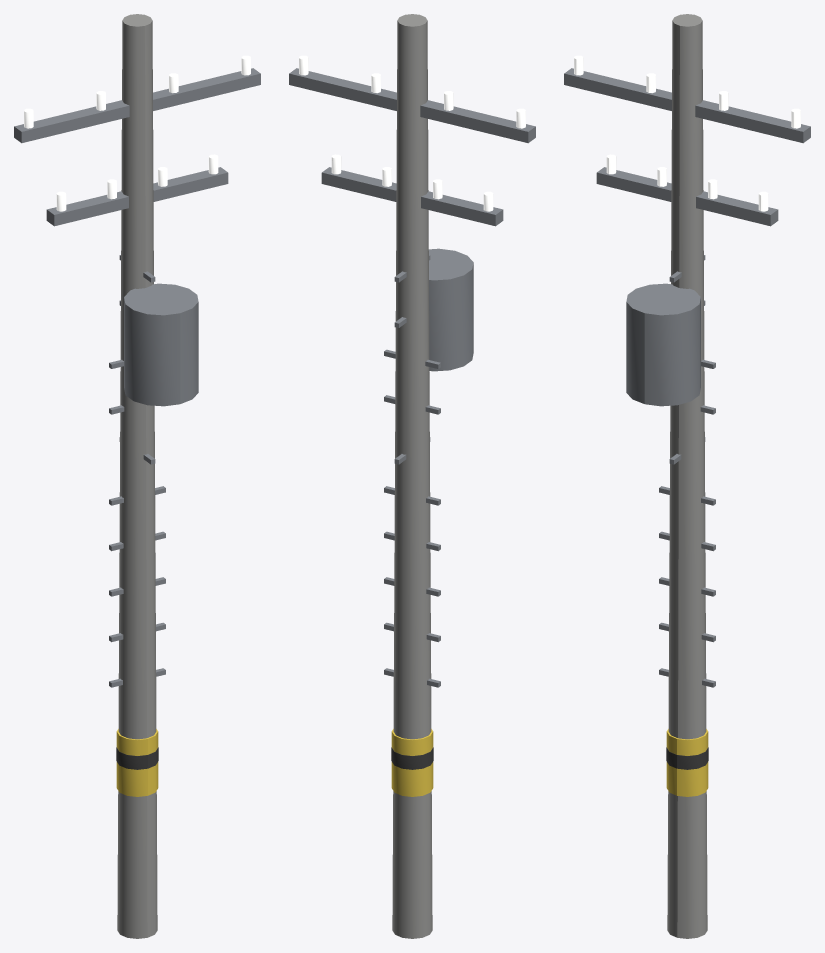
File: prop_utility_pole.glb
3 renders of one model, left to right at view 1: azimuth 30°, elevation 25°; view 2: azimuth 150°, elevation 25°; view 3: azimuth 330°, elevation 25°, orthographic.
Parts seen in each view (by area): view 1: prop_utility_pole; view 2: prop_utility_pole; view 3: prop_utility_pole.
Boxes of the visible parts, x1,y1,x2,y2 form: prop_utility_pole: [14, 14, 260, 938]; prop_utility_pole: [289, 14, 535, 938]; prop_utility_pole: [564, 14, 810, 938].
Bounding box in the file's own units: 2.2 × 8 × 0.93.
